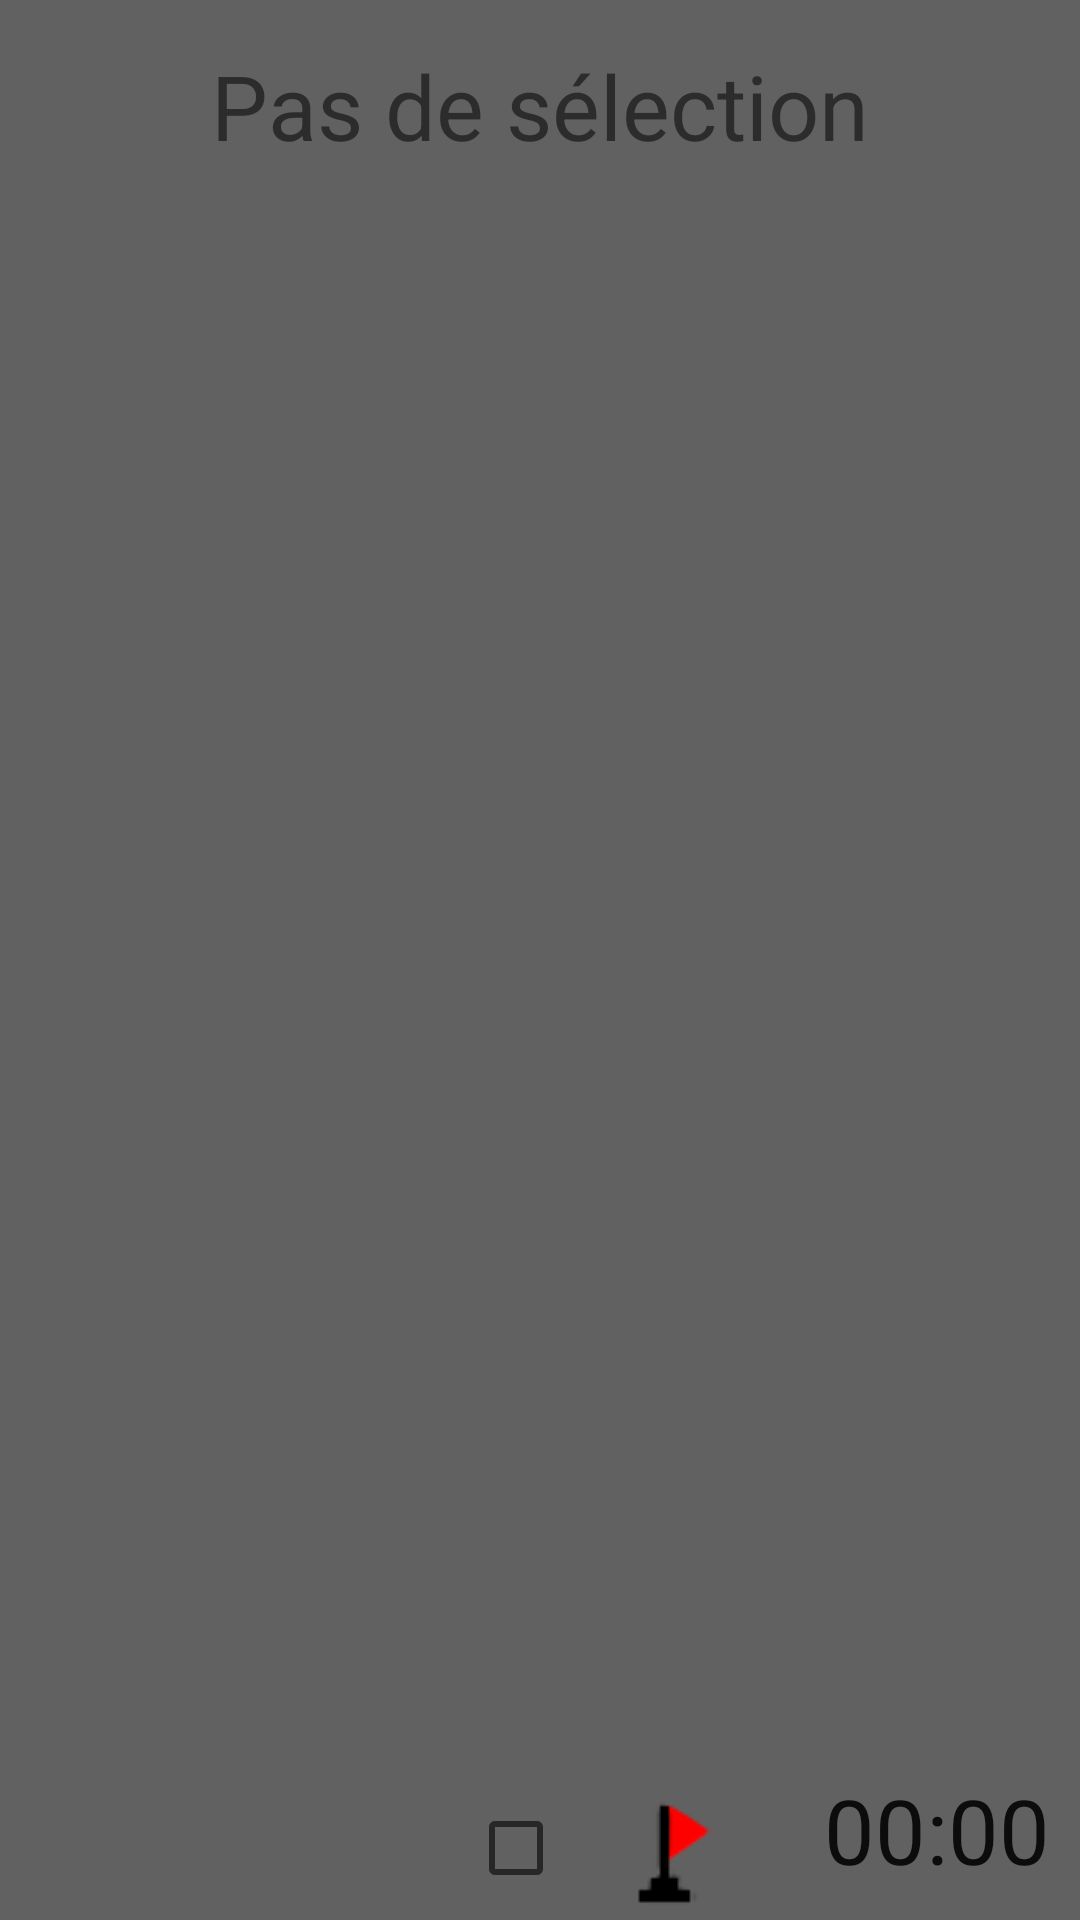

Icons on this 1080×1920 Android screen, each with its box as [x1, y1, x2, y2]:
flag: [638, 1805, 709, 1903]
